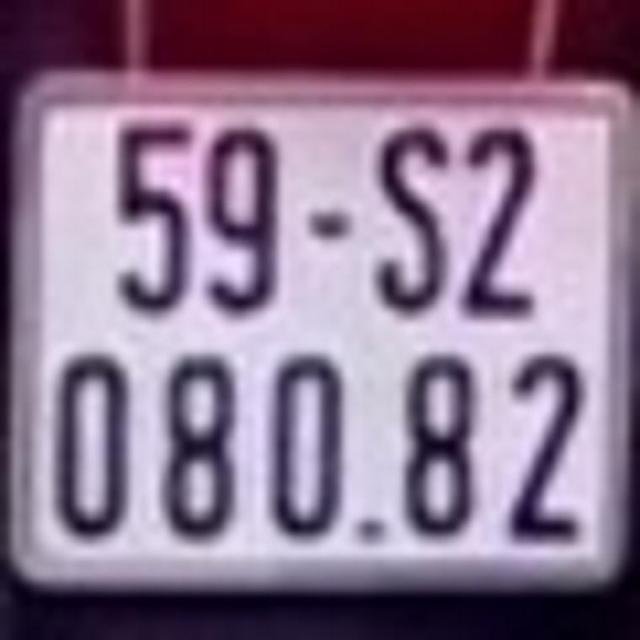0: (51, 354, 128, 537), (273, 354, 341, 537)
2: (505, 341, 579, 544), (465, 130, 542, 319)
5: (104, 121, 187, 313)
8: (169, 346, 234, 549), (411, 346, 475, 536)
9: (200, 125, 277, 312)
S: (367, 125, 445, 318)
